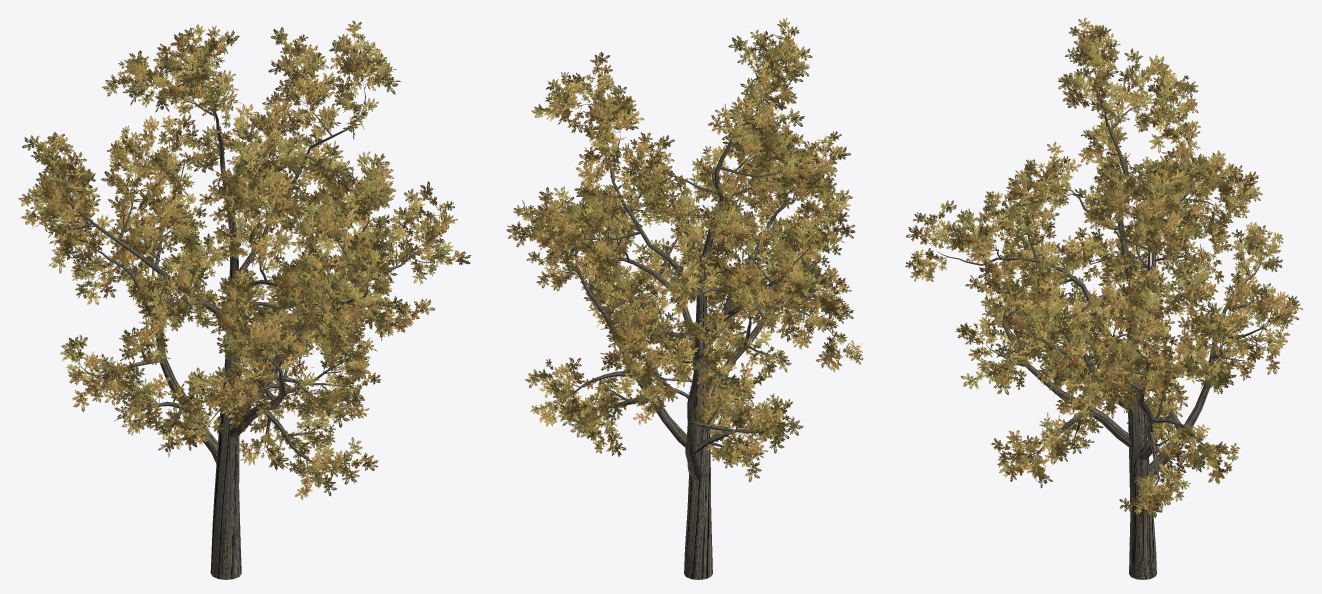
3 views of the same model, side by side, from view 1: azimuth 30°, elevation 25°; view 2: azimuth 150°, elevation 25°; view 3: azimuth 270°, elevation 25° (orthographic). The views are drawn at different scales.
Visible parts, largest first — view 1: Tree; view 2: Tree; view 3: Tree.
Boxes of the visible parts, x1,y1,x2,y2 form: Tree: [18, 20, 471, 579]; Tree: [506, 18, 863, 579]; Tree: [905, 18, 1302, 579].
Size of the model in its own units: 60.66 by 83.69 by 58.13.
Materials: 2 (2 with a texture image).
